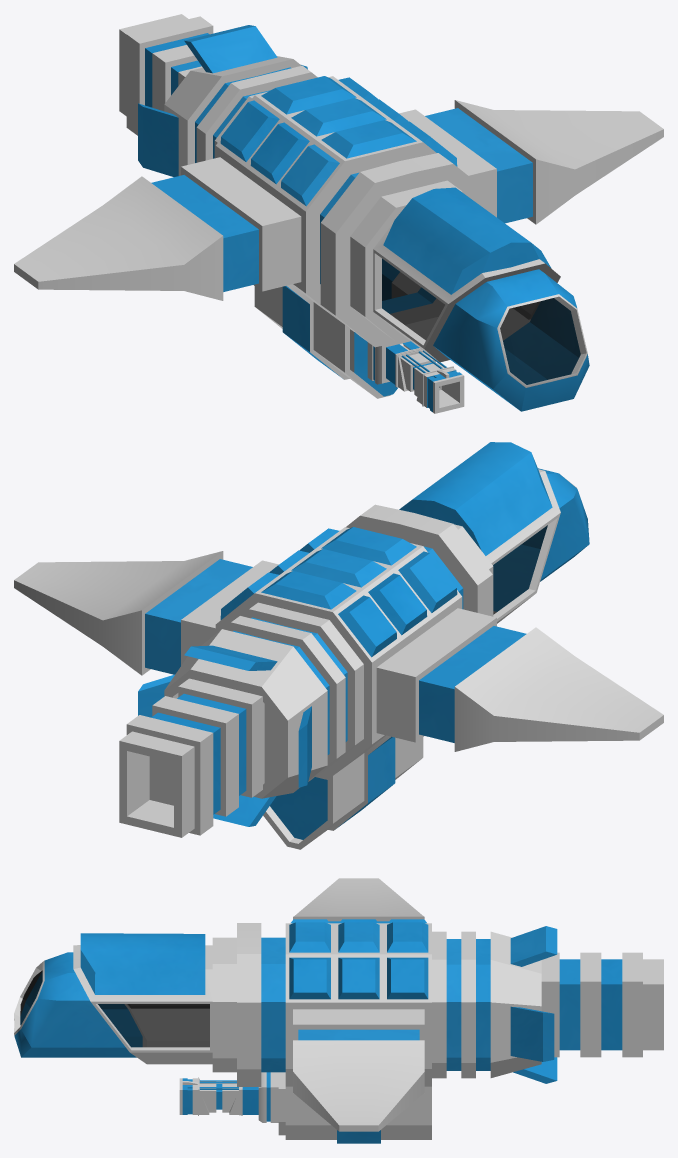
File: BBB.fbx
3 views of the same model, one above another, from view 1: azimuth 30°, elevation 25°; view 2: azimuth 150°, elevation 25°; view 3: azimuth 270°, elevation 25° (orthographic). The views are drawn at different scales.
Visible parts, largest first — view 1: BBB; view 2: BBB; view 3: BBB.
Boxes of the visible parts, left/top/right/bottom form: BBB: left=14, top=14, right=663, bottom=413; BBB: left=14, top=442, right=663, bottom=849; BBB: left=14, top=878, right=663, bottom=1143.
Size of the model in its own units: 8 by 3.15 by 8.89.
